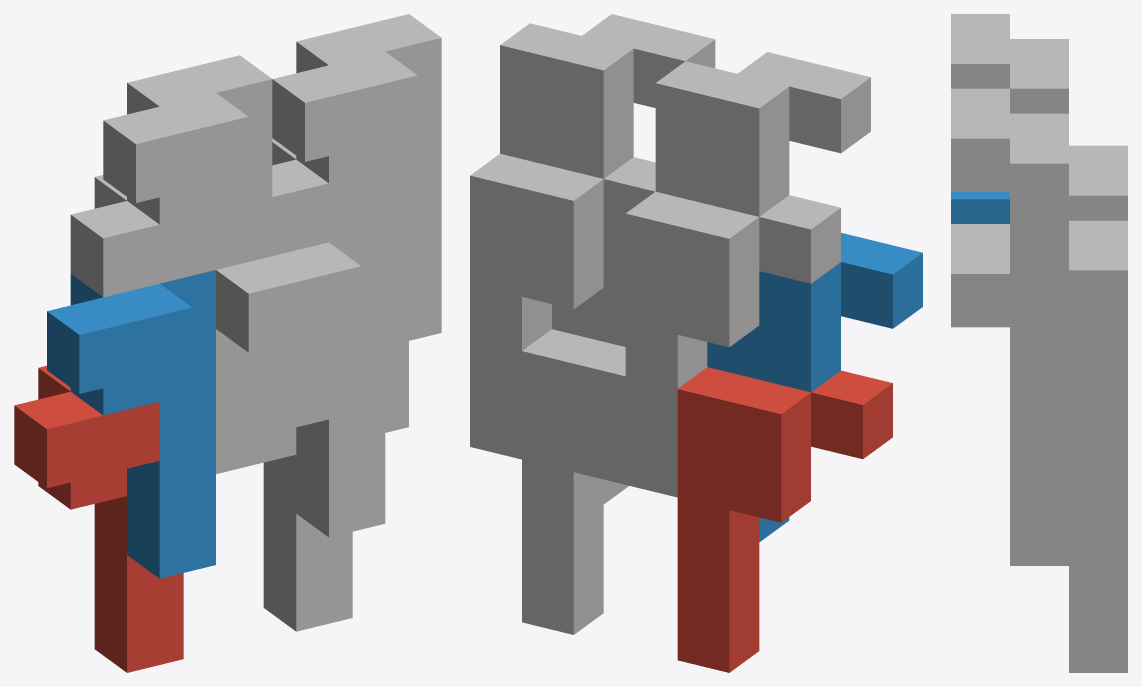
The model's file is tiling.obj.
The picture shows the model from 3 angles, left to right: view 1: azimuth 30°, elevation 25°; view 2: azimuth 150°, elevation 25°; view 3: azimuth 270°, elevation 25°; orthographic projection. The views are drawn at different scales.
Parts seen in each view (by area): view 1: copy_1_domain_8, copy_1_domain_2, copy_1_domain_6, copy_1_domain_4, copy_1_domain_1, copy_1_domain_5, copy_1_domain_3, copy_1_domain_7; view 2: copy_1_domain_1, copy_1_domain_3, copy_1_domain_7, copy_1_domain_5, copy_1_domain_4, copy_1_domain_8, copy_1_domain_2, copy_1_domain_6; view 3: copy_1_domain_8, copy_1_domain_7, copy_1_domain_6, copy_1_domain_4, copy_1_domain_5, copy_1_domain_3, copy_1_domain_2.
Part boxes in pixels (x1=…): copy_1_domain_8: x1=272, y1=14, x2=441, y2=346; copy_1_domain_2: x1=47, y1=270, x2=215, y2=578; copy_1_domain_6: x1=216, y1=229, x2=385, y2=537; copy_1_domain_4: x1=103, y1=55, x2=272, y2=387; copy_1_domain_1: x1=14, y1=365, x2=183, y2=672; copy_1_domain_5: x1=216, y1=360, x2=352, y2=631; copy_1_domain_3: x1=70, y1=175, x2=239, y2=473; copy_1_domain_7: x1=272, y1=138, x2=408, y2=432; copy_1_domain_1: x1=677, y1=367, x2=892, y2=672; copy_1_domain_3: x1=625, y1=191, x2=840, y2=497; copy_1_domain_7: x1=470, y1=153, x2=655, y2=459; copy_1_domain_5: x1=522, y1=329, x2=625, y2=634; copy_1_domain_4: x1=655, y1=52, x2=870, y2=216; copy_1_domain_8: x1=500, y1=14, x2=715, y2=178; copy_1_domain_2: x1=707, y1=233, x2=922, y2=542; copy_1_domain_6: x1=552, y1=233, x2=628, y2=504; copy_1_domain_8: x1=951, y1=88, x2=1068, y2=430; copy_1_domain_7: x1=1069, y1=220, x2=1127, y2=537; copy_1_domain_6: x1=951, y1=224, x2=1068, y2=565; copy_1_domain_4: x1=951, y1=14, x2=1068, y2=113; copy_1_domain_5: x1=1069, y1=537, x2=1127, y2=672; copy_1_domain_3: x1=1069, y1=145, x2=1127, y2=220; copy_1_domain_2: x1=951, y1=192, x2=1009, y2=223.
Bounding box in the file's own units: 7 × 10 × 3.
